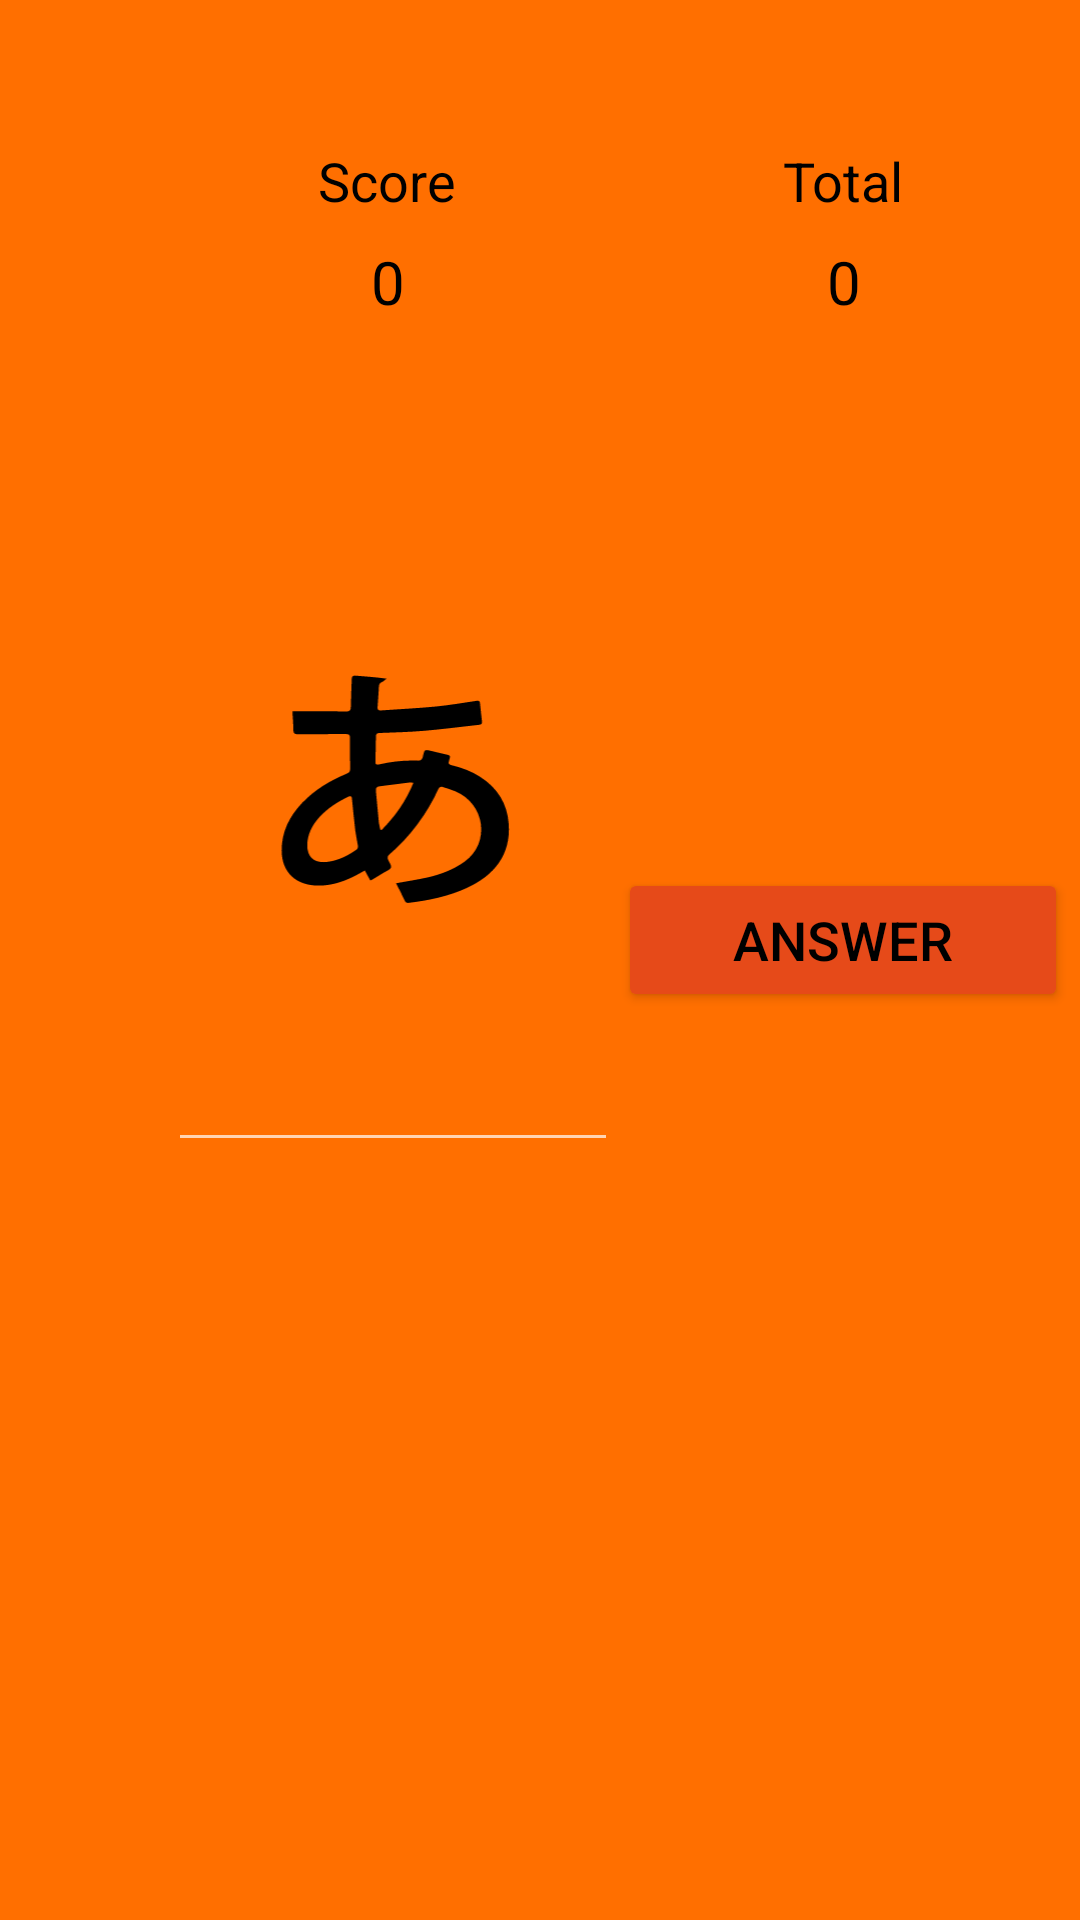

Locate icon controls on the screen. Image size 1080w x 1920h, boxes as (x1, y1, x2, y2).
hiragana: (281, 675, 510, 903)
